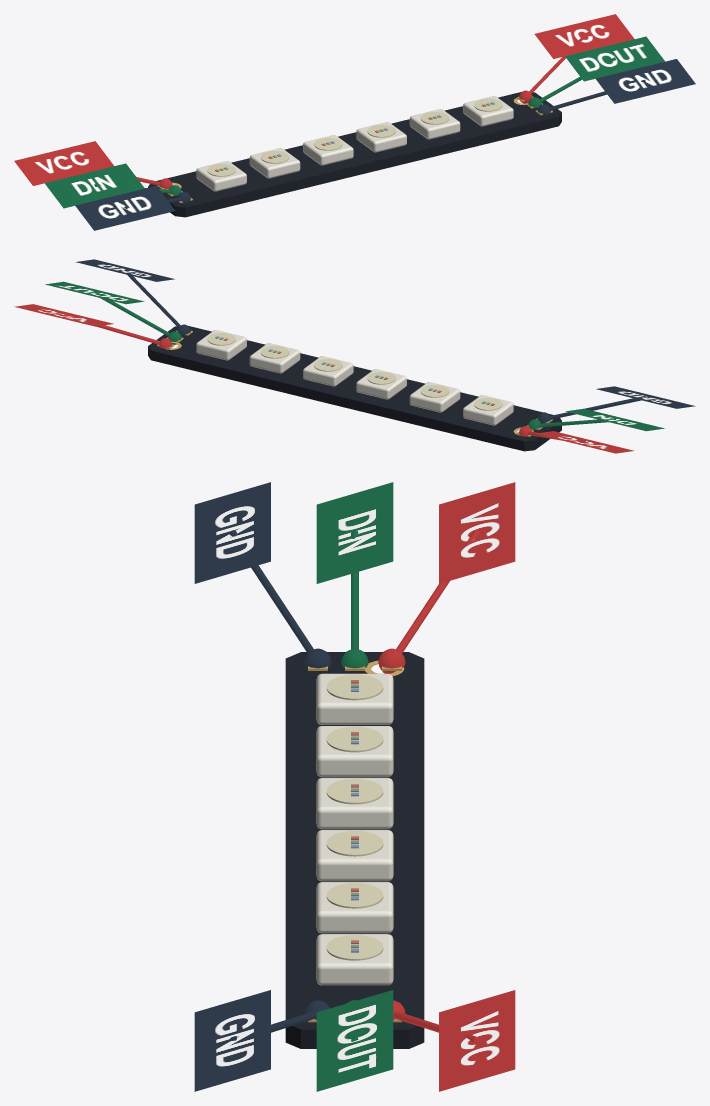
The model's file is neopixel.glb.
3 renders of one model, top to bottom at view 1: azimuth 30°, elevation 25°; view 2: azimuth 150°, elevation 25°; view 3: azimuth 270°, elevation 25°, orthographic. The views are drawn at different scales.
Visible parts, largest first — view 1: neopixel, GND (×2), VCC (×2), DIN, DOUT, Terminal labels; view 2: neopixel, Terminal labels, GND (×2), VCC (×2), DIN, DOUT; view 3: neopixel, GND (×2), VCC (×2), DOUT, DIN, Terminal labels.
Part boxes in pixels (x1,y1,x2,y2): neopixel: (148,92,561,217); GND (×2): (75,59,695,230); VCC (×2): (14,14,634,185); DIN: (45,163,144,208); DOUT: (565,36,664,81); Terminal labels: (64,35,645,208); neopixel: (148,326,561,451); Terminal labels: (64,269,645,442); GND (×2): (75,259,695,408); VCC (×2): (14,304,634,453); DIN: (565,408,664,431); DOUT: (45,281,144,304); neopixel: (285,652,424,1048); GND (×2): (194,482,270,1091); VCC (×2): (439,482,515,1091); DOUT: (316,990,393,1091); DIN: (316,482,393,583); Terminal labels: (229,530,479,1042).
Size of the model in its own units: 0.0902 by 0.00606 by 0.0208.
19 materials, 6 textured.
